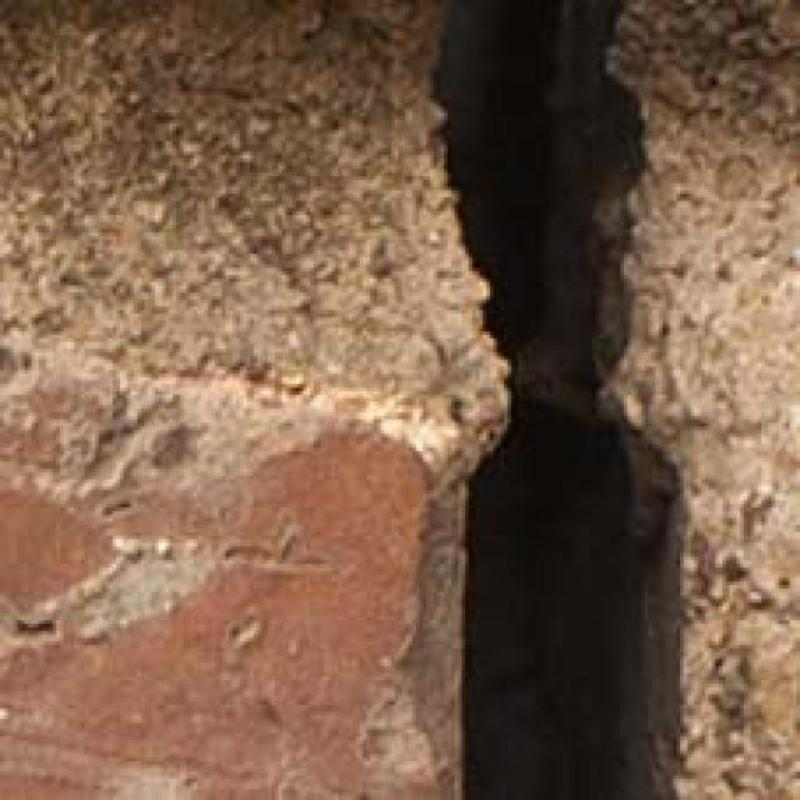pothole: (438, 0, 681, 799)
